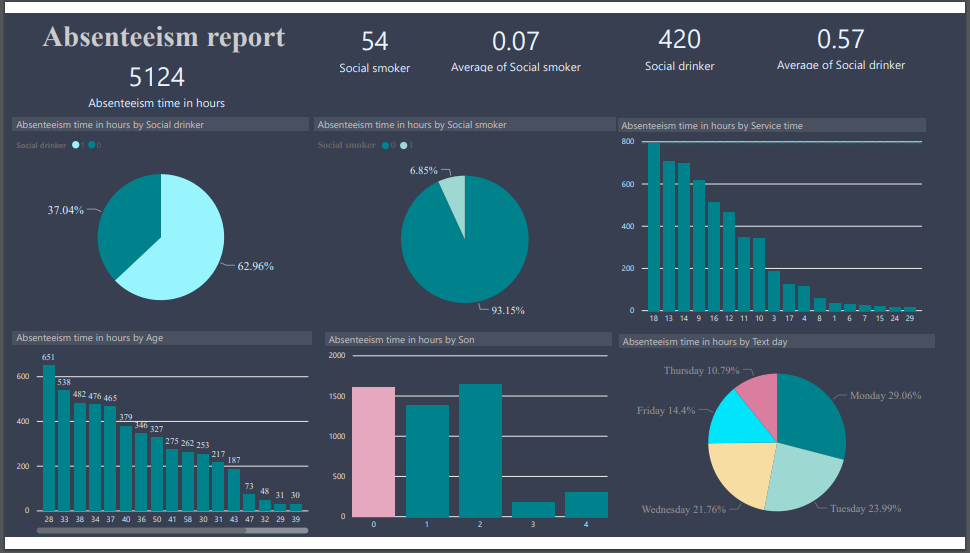

What the dashboard file says about the page in this screenshot:
{"tool":"powerbi","page":{"name":"Reasons","canvas":[1280,720],"ordinal":0},"visuals":[{"type":"pieChart","fields":{"Y":["Sum(Absenteeism_at_work.Absenteeism time in hours)"],"Category":["Absenteeism_at_work.Social drinker"]},"box":[12.2,143.7,406.8,283.4],"z":3},{"type":"textbox","box":[8.3,4.1,422.6,77.1],"z":4},{"type":"pieChart","fields":{"Y":["Sum(Absenteeism_at_work.Absenteeism time in hours)"],"Category":["Absenteeism_at_work.Social smoker"]},"box":[425.8,143.7,413.6,287.5],"z":4},{"type":"card","fields":{"Values":["Sum(Absenteeism_at_work.Absenteeism time in hours)"]},"box":[32.5,56.9,353.9,78.6],"z":5},{"type":"card","fields":{"Values":["Sum(Absenteeism_at_work.Social drinker)"]},"box":[836.6,6.8,183.1,77.3],"z":6},{"type":"card","fields":{"Values":["Sum(Absenteeism_at_work.Social smoker)"]},"box":[427.1,8.1,165.4,80],"z":6},{"type":"card","fields":{"Values":["Avg(Absenteeism_at_work.Social drinker)"]},"box":[1041.4,6.8,218.3,74.6],"z":7},{"type":"card","fields":{"Values":["Avg(Absenteeism_at_work.Social smoker)"]},"box":[600.7,9.5,204.7,77.3],"z":8},{"type":"clusteredColumnChart","fields":{"Y":["Sum(Absenteeism_at_work.Absenteeism time in hours)"],"Category":["Absenteeism_at_work.Age"]},"box":[12.2,436.6,410.8,283.4],"z":9},{"type":"clusteredColumnChart","fields":{"Category":["Absenteeism_at_work.Son"],"Y":["Sum(Absenteeism_at_work.Absenteeism time in hours)"]},"box":[440.7,439.3,393.2,280.7],"z":10},{"type":"clusteredColumnChart","fields":{"Y":["Sum(Absenteeism_at_work.Absenteeism time in hours)"],"Category":["Absenteeism_at_work.Service time"]},"box":[843.4,145.1,423.1,291.5],"z":11},{"type":"pieChart","fields":{"Y":["Sum(Absenteeism_at_work.Absenteeism time in hours)"],"Category":["Map_days.Text day"]},"box":[844.7,442,433.9,278],"z":13}]}

Visuals, with their boxes in screenshot pixels (x1, y1, x2, y2), scaled from the page's 1280x720 canvas onto the 970x553 screenshot:
pieChart - Sum(Absenteeism_at_work.Absenteeism time in hours) x Absenteeism_at_work.Social drinker: <box>9,110,318,328</box>
textbox: <box>6,3,327,62</box>
pieChart - Sum(Absenteeism_at_work.Absenteeism time in hours) x Absenteeism_at_work.Social smoker: <box>323,110,636,331</box>
card - Sum(Absenteeism_at_work.Absenteeism time in hours): <box>25,44,293,104</box>
card - Sum(Absenteeism_at_work.Social drinker): <box>634,5,773,65</box>
card - Sum(Absenteeism_at_work.Social smoker): <box>324,6,449,68</box>
card - Avg(Absenteeism_at_work.Social drinker): <box>789,5,955,63</box>
card - Avg(Absenteeism_at_work.Social smoker): <box>455,7,610,67</box>
clusteredColumnChart - Sum(Absenteeism_at_work.Absenteeism time in hours) x Absenteeism_at_work.Age: <box>9,335,321,552</box>
clusteredColumnChart - Absenteeism_at_work.Son x Sum(Absenteeism_at_work.Absenteeism time in hours): <box>334,337,632,552</box>
clusteredColumnChart - Sum(Absenteeism_at_work.Absenteeism time in hours) x Absenteeism_at_work.Service time: <box>639,111,960,335</box>
pieChart - Sum(Absenteeism_at_work.Absenteeism time in hours) x Map_days.Text day: <box>640,339,969,552</box>
